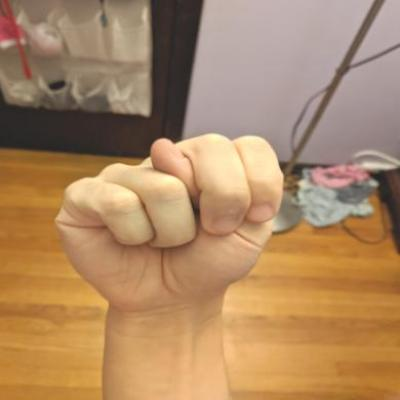hand: (45, 127, 292, 313)
